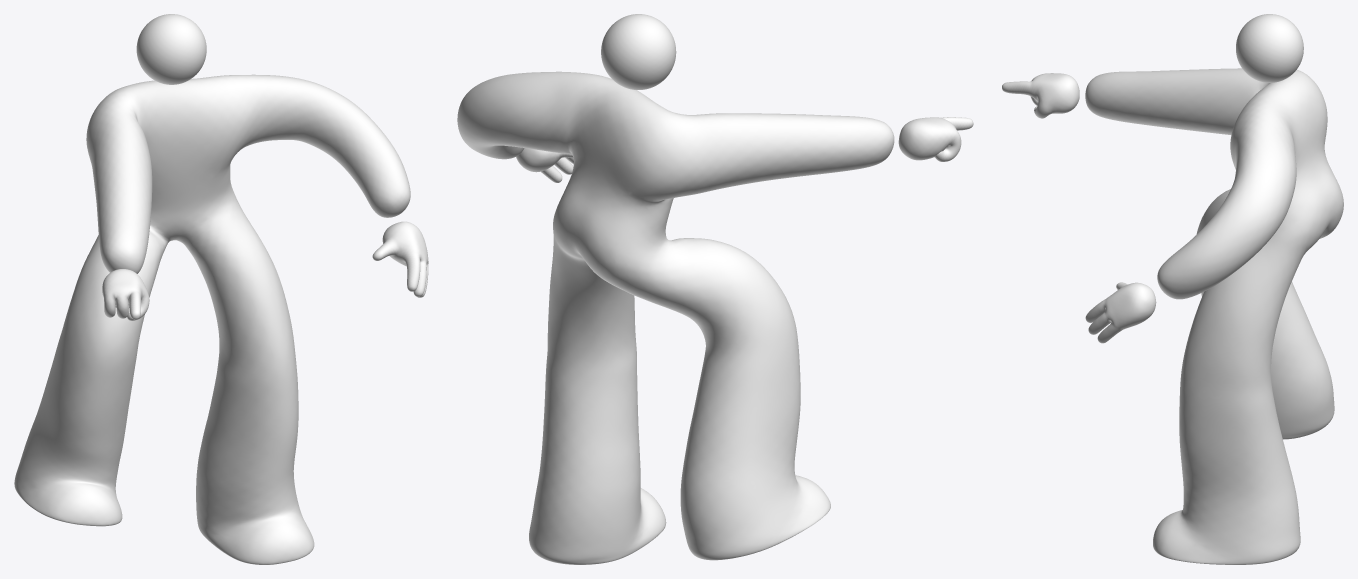
Rendered from K2-man1.gltf.
3 renders of one model, left to right at view 1: azimuth 30°, elevation 25°; view 2: azimuth 150°, elevation 25°; view 3: azimuth 270°, elevation 25°, orthographic. The views are drawn at different scales.
Visible parts, largest first — view 1: k2-man1; view 2: k2-man1; view 3: k2-man1.
Boxes of the visible parts, left/top/right/bottom form: k2-man1: left=14, top=14, right=428, bottom=564; k2-man1: left=457, top=14, right=973, bottom=564; k2-man1: left=1002, top=14, right=1343, bottom=564.
Bounding box in the file's own units: 26.32 × 34.46 × 21.34.
1 material, 1 textured.
